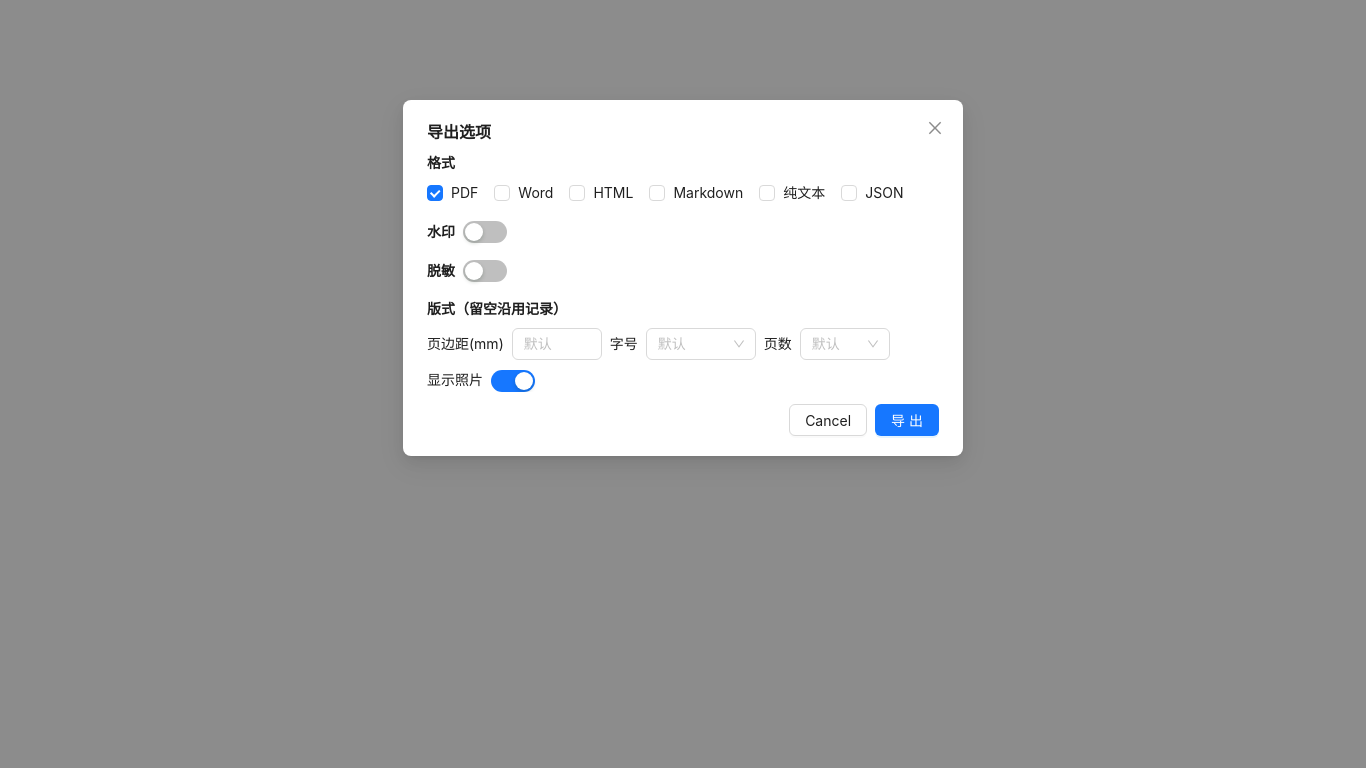
Scenario: ExportOptionsModal › 未选格式时提示而不是导出
The image size is (1366, 768).
# 取消默认勾选的 PDF。
Click the checkbox labelled "PDF": [457, 193] box [427,182,486,204]
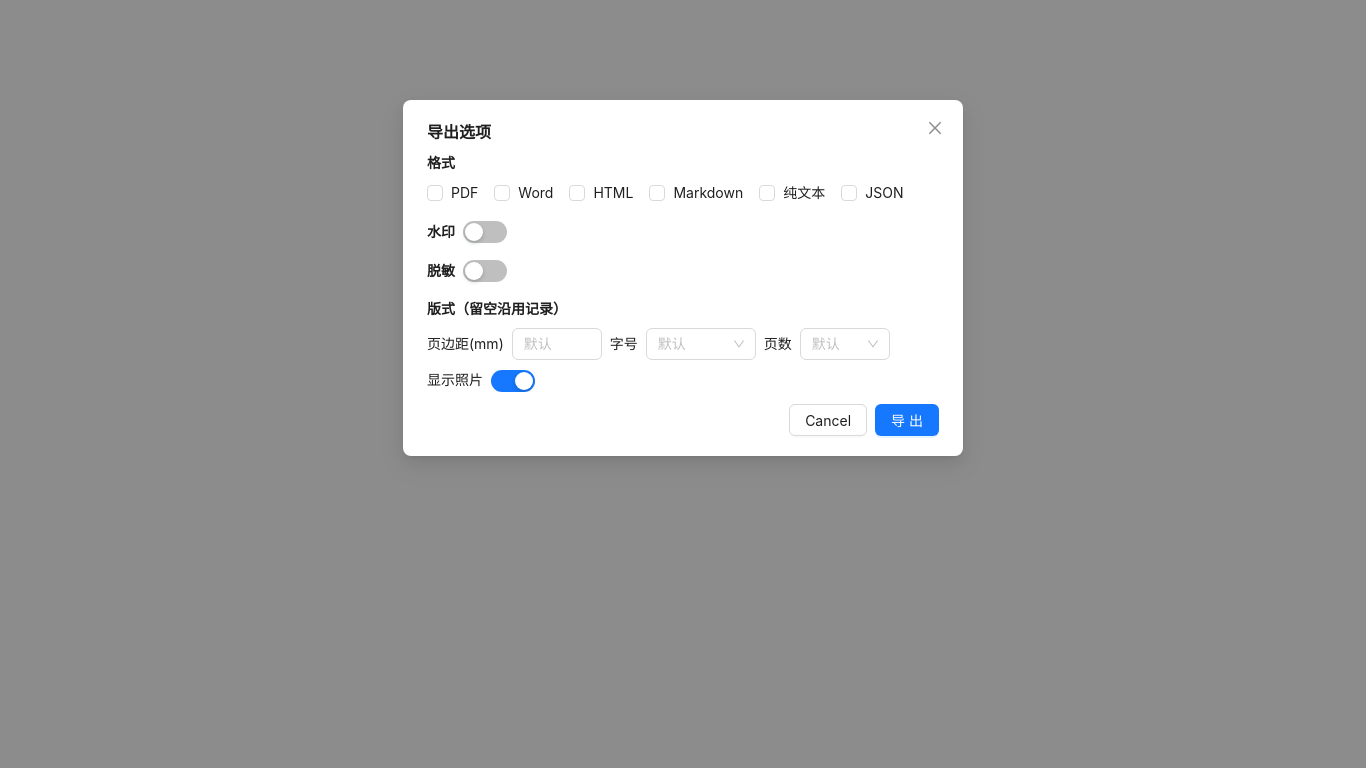
Click the button "导 出": [907, 420] box [875,404,939,436]
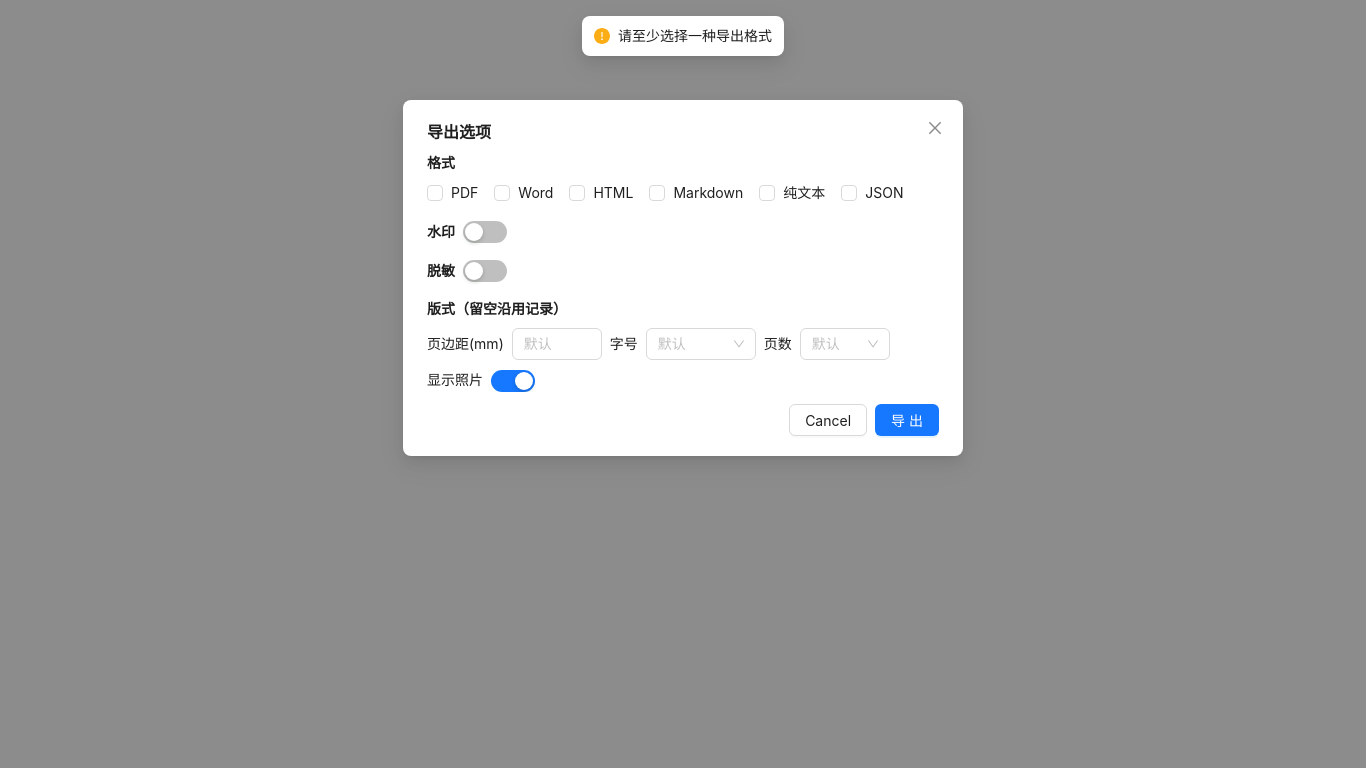
Expected: the text "请至少选择一种导出格式" is shown, [618,25,772,47]
